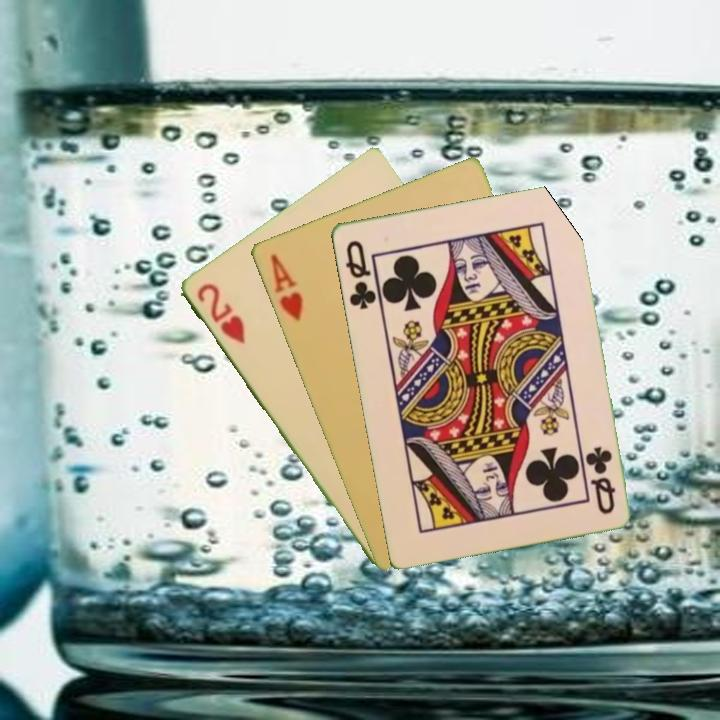2h: (192, 279, 248, 348)
Ah: (266, 250, 306, 324)
Qc: (341, 236, 379, 312), (582, 442, 618, 517)
